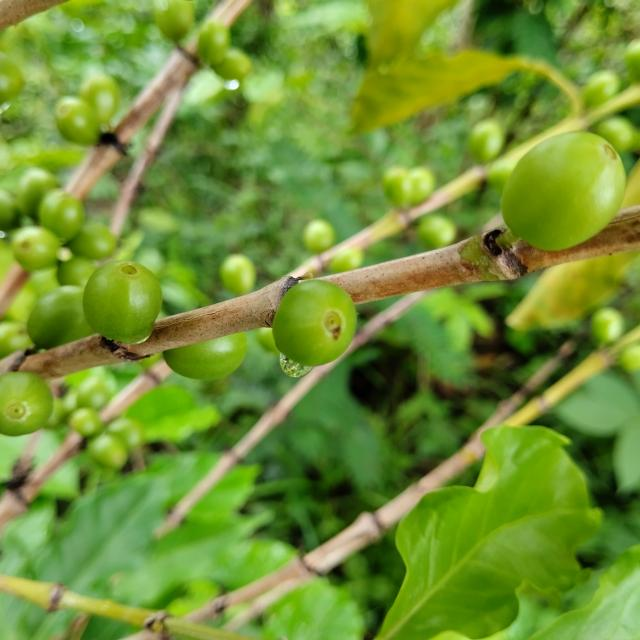green: (502, 131, 627, 250), (272, 279, 357, 366), (82, 261, 162, 344), (26, 285, 93, 349), (162, 332, 246, 380), (0, 372, 52, 437), (38, 188, 84, 241), (11, 226, 59, 271), (56, 257, 95, 287)
